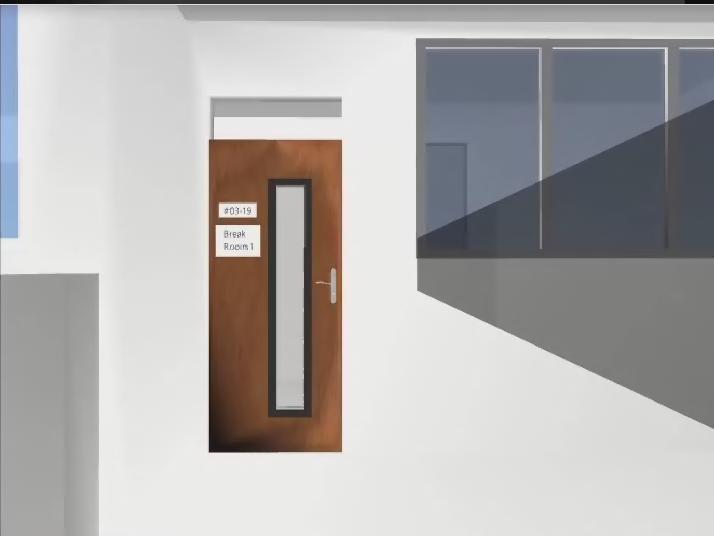door: (209, 140, 342, 452)
